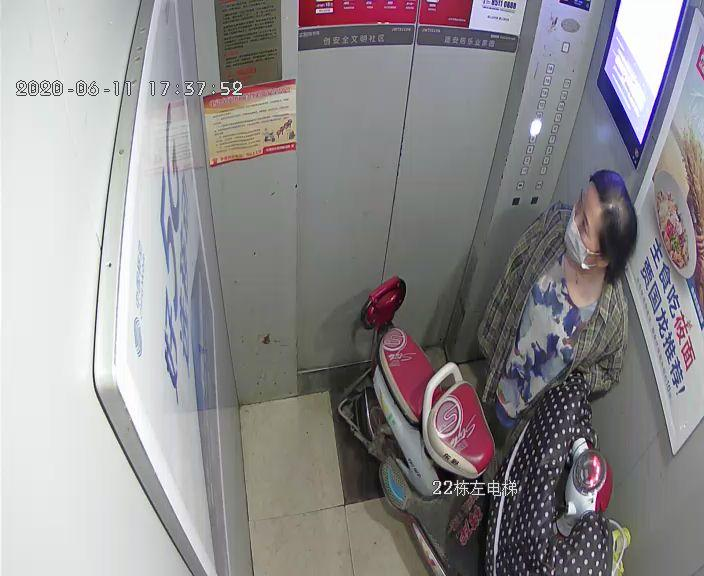Electric-bicycle: (339, 272, 628, 572)
